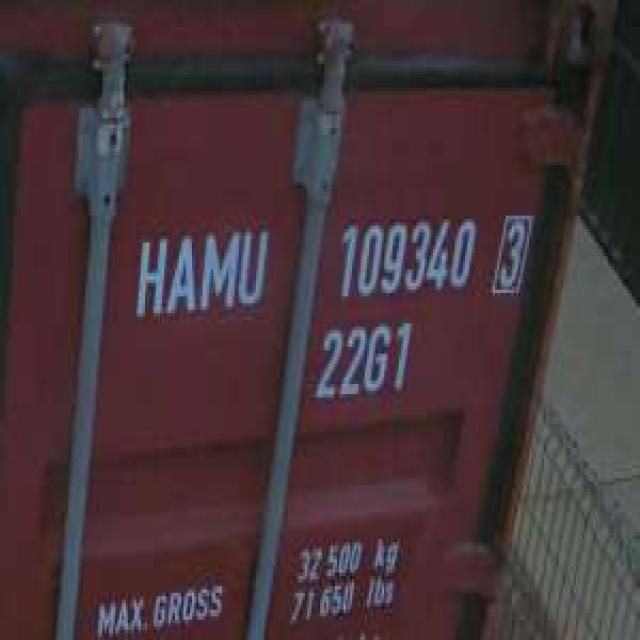dv: (486, 202, 534, 300)
owner: (126, 212, 271, 330)
serial: (335, 209, 478, 303)
size: (309, 313, 416, 408)
